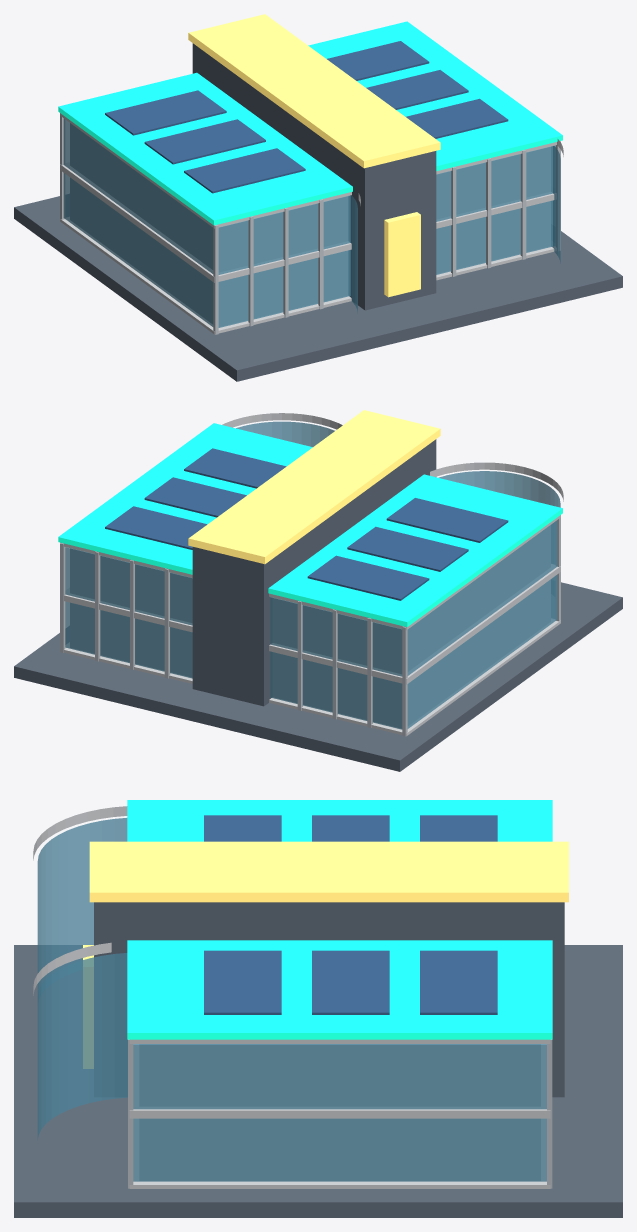
The model's file is high_performance_centre.master.glb.
3 renders of one model, top to bottom at view 1: azimuth 30°, elevation 25°; view 2: azimuth 150°, elevation 25°; view 3: azimuth 270°, elevation 25°, orthographic. The views are drawn at different scales.
Parts seen in each view (by area): view 1: high_performance_centre_master; view 2: high_performance_centre_master; view 3: high_performance_centre_master.
Part boxes in pixels (x1,y1,x2,y2): high_performance_centre_master: [14, 14, 622, 381]; high_performance_centre_master: [14, 410, 622, 771]; high_performance_centre_master: [14, 800, 622, 1217].
Bounding box in the file's own units: 2.82 × 1.13 × 2.82.
